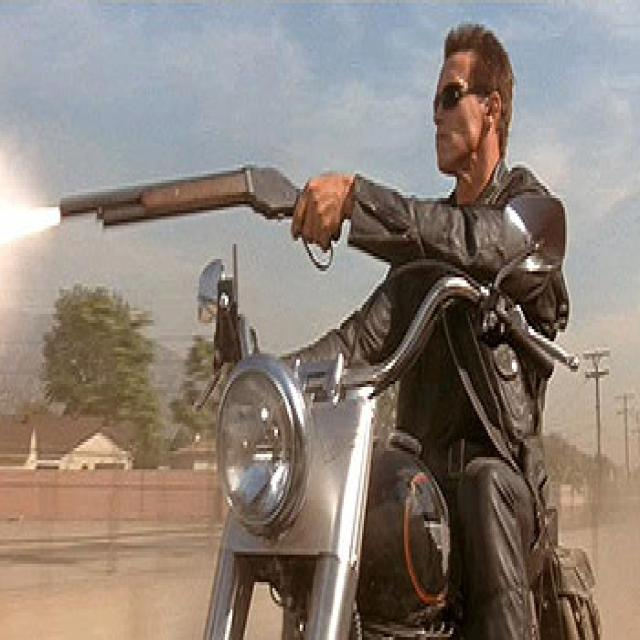ShotGun: (59, 165, 304, 232)
